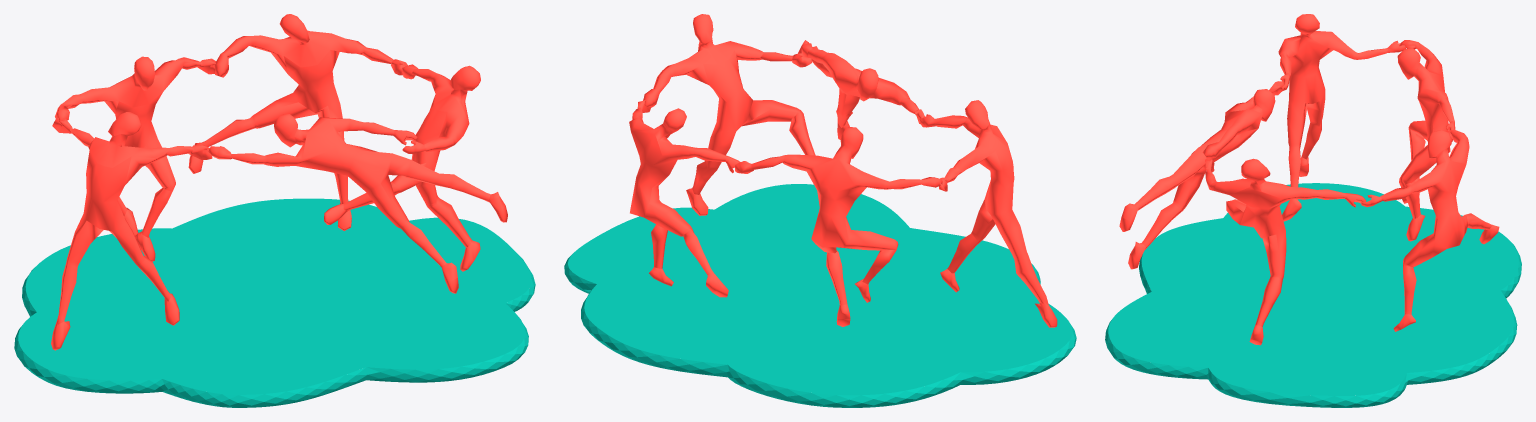
File: LaDance.glb
3 views of the same model, side by side, from view 1: azimuth 30°, elevation 25°; view 2: azimuth 150°, elevation 25°; view 3: azimuth 270°, elevation 25° (orthographic). The views are drawn at different scales.
Visible parts, largest first — view 1: BezierCurve.002, Object_2.005, low poly base mesh.003, low poly base mesh, low poly base mesh.005, low poly base mesh.002; view 2: BezierCurve.002, low poly base mesh.005, low poly base mesh.002, low poly base mesh.003, low poly base mesh, Object_2.005; view 3: BezierCurve.002, low poly base mesh.003, low poly base mesh, low poly base mesh.005, Object_2.005, low poly base mesh.002.
Part boxes in pixels (<box>): BezierCurve.002: <box>14,198,535,407</box>; Object_2.005: <box>208,114,507,293</box>; low poly base mesh.003: <box>51,112,212,350</box>; low poly base mesh: <box>188,14,407,230</box>; low poly base mesh.005: <box>324,64,480,271</box>; low poly base mesh.002: <box>55,56,215,261</box>; BezierCurve.002: <box>564,184,1076,407</box>; low poly base mesh.005: <box>643,14,815,215</box>; low poly base mesh.002: <box>735,127,942,326</box>; low poly base mesh.003: <box>919,100,1057,327</box>; low poly base mesh: <box>629,100,739,297</box>; Object_2.005: <box>797,40,924,139</box>; BezierCurve.002: <box>1105,183,1521,407</box>; low poly base mesh.003: <box>1278,14,1406,221</box>; low poly base mesh: <box>1361,129,1499,331</box>; low poly base mesh.005: <box>1205,158,1366,345</box>; Object_2.005: <box>1119,81,1284,269</box>; low poly base mesh.002: <box>1397,40,1455,241</box>.
Size of the model in its own units: 3.9 by 1.86 by 3.17.
